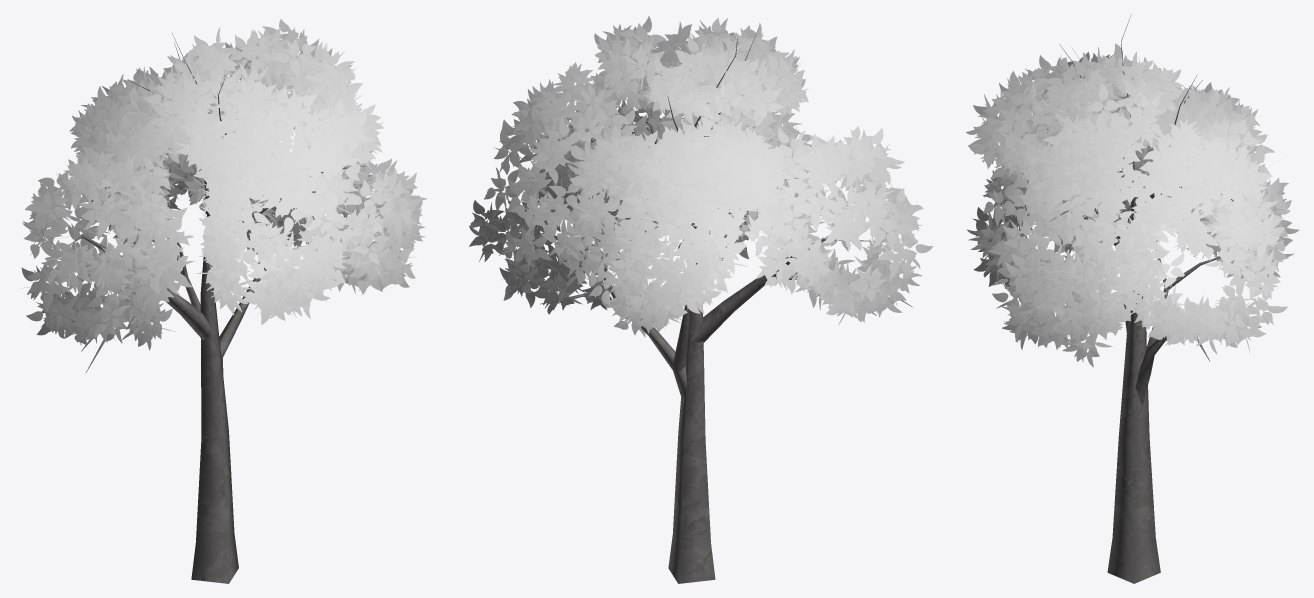
File: Pohon3.fbx
3 views of the same model, side by side, from view 1: azimuth 30°, elevation 25°; view 2: azimuth 150°, elevation 25°; view 3: azimuth 270°, elevation 25° (orthographic). The views are drawn at different scales.
Parts seen in each view (by area): view 1: Leaves, Leaf.002; view 2: Leaves, Leaf.002; view 3: Leaves, Leaf.002.
Boxes of the visible parts, x1,y1,x2,y2 form: Leaves: (21, 19, 427, 350); Leaf.002: (73, 33, 365, 583); Leaves: (469, 16, 933, 337); Leaf.002: (540, 28, 912, 583); Leaves: (966, 43, 1299, 367); Leaf.002: (1049, 14, 1233, 583).
Size of the model in its own units: 491 by 658 by 375.
